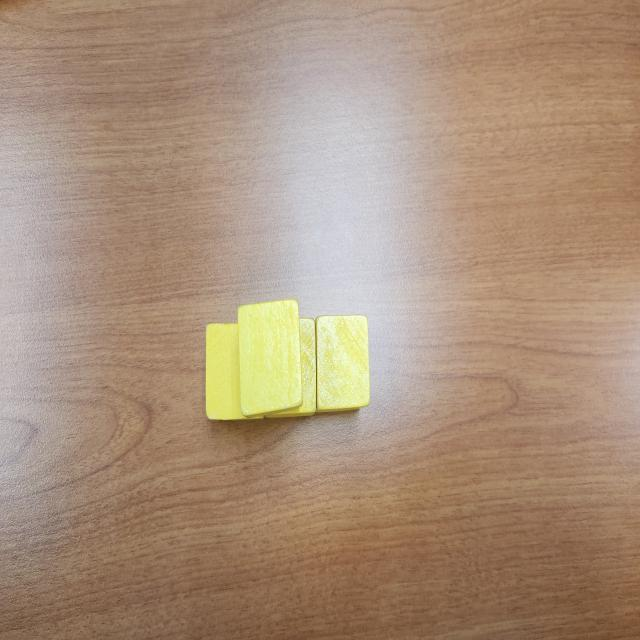yellow: (238, 300, 302, 419), (204, 322, 265, 422), (314, 314, 370, 414), (264, 318, 317, 423)
